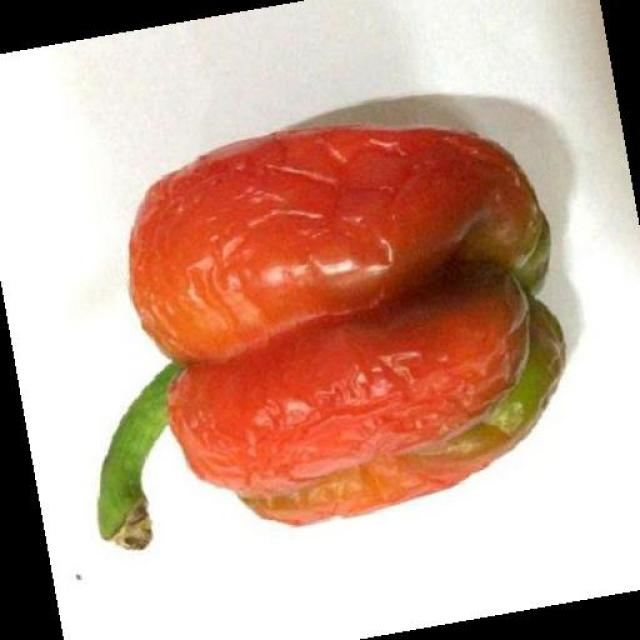Stale_Capsicum: (90, 128, 605, 584)
